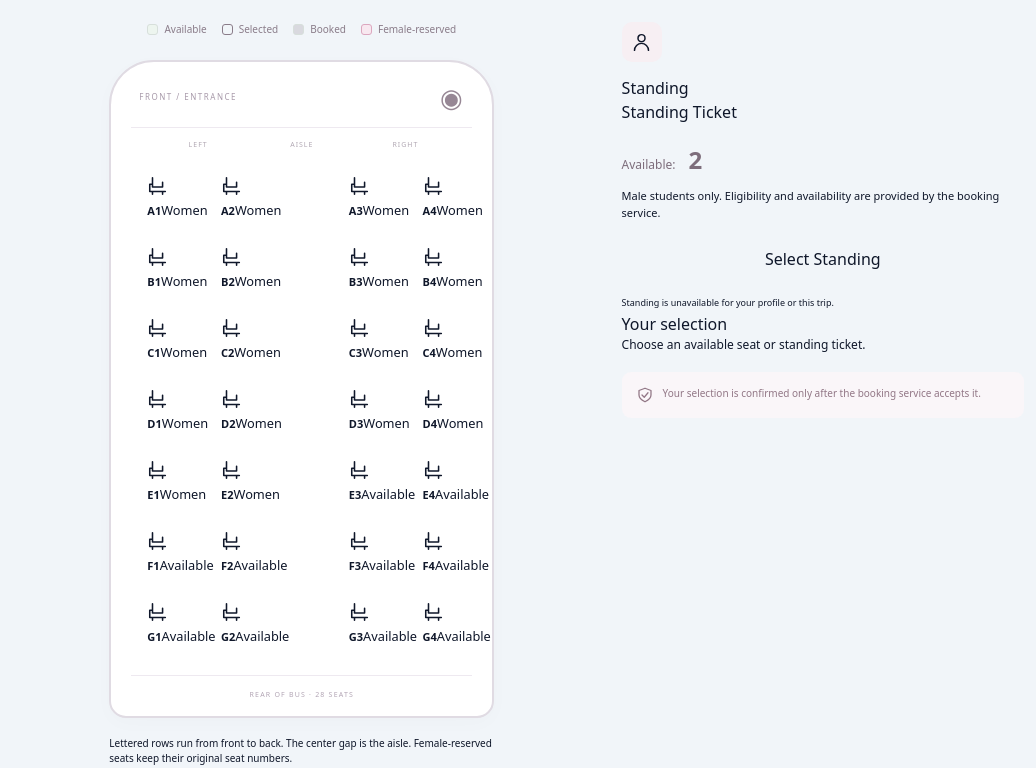
female 28-seat selection allows both reserved and normal eligible seats
Step 1. Click the button with aria-label "Seat 1 Reserved" → (164, 198), box [131, 166, 197, 228]
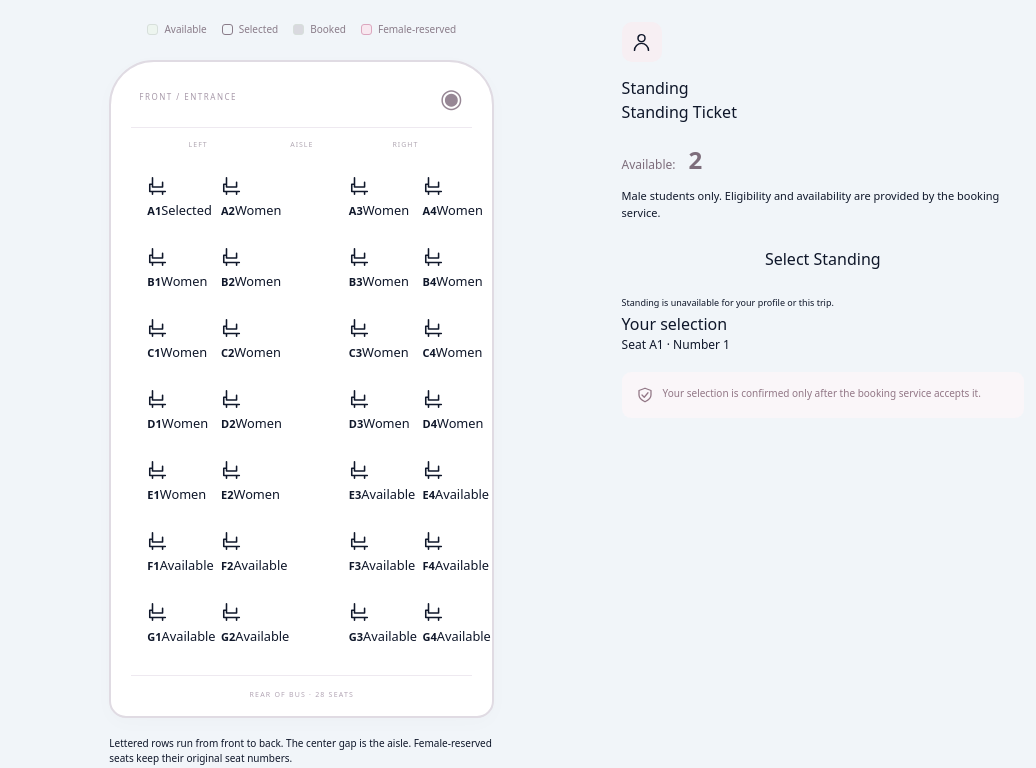
Check: the element "Your selection" shows "A1", box [622, 336, 730, 353]
Step 2. Click the button with aria-label "Seat 19 Available" → (366, 482), box [333, 450, 399, 512]
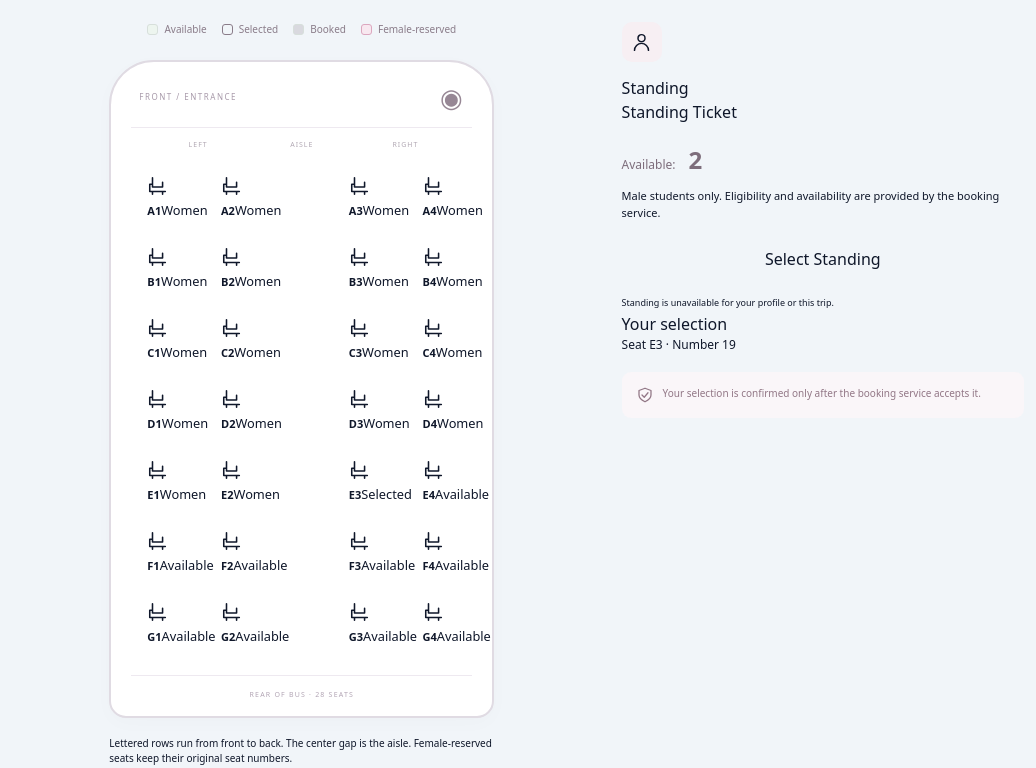
Check: the button "Select Standing" is disabled, box [622, 239, 1024, 279]
Check: the element "Your selection" shows "E3", box [622, 336, 736, 353]
